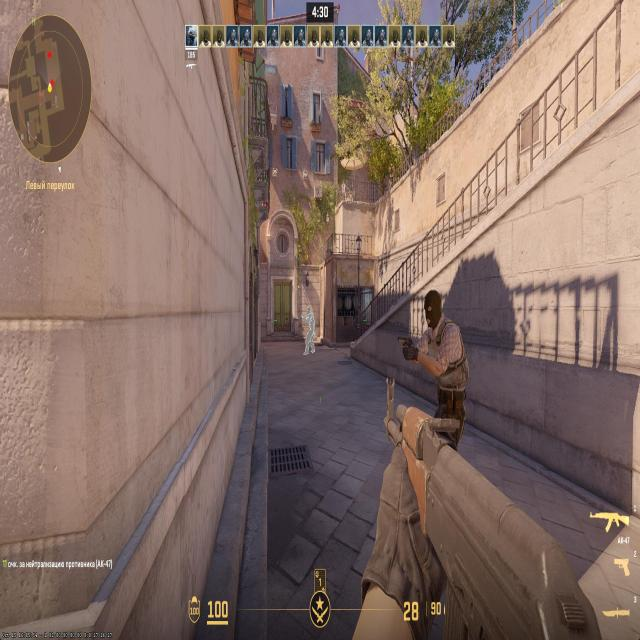T: (424, 298, 459, 400)
T_heat: (429, 305, 442, 331)
